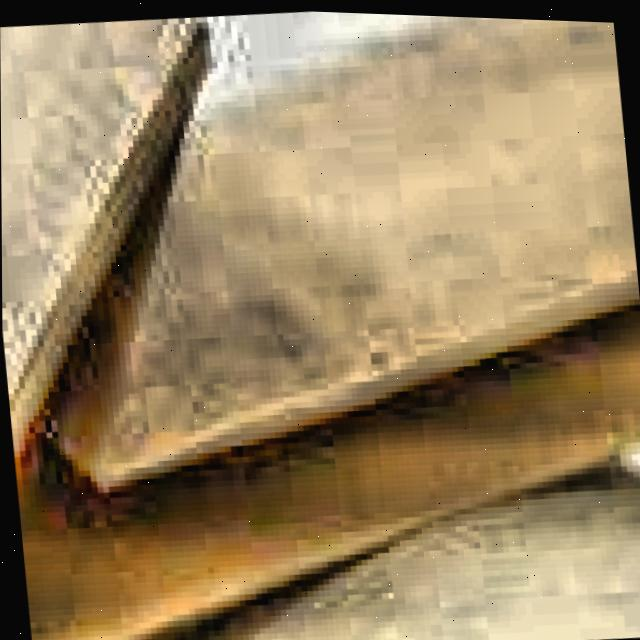paper: (0, 13, 640, 640)
